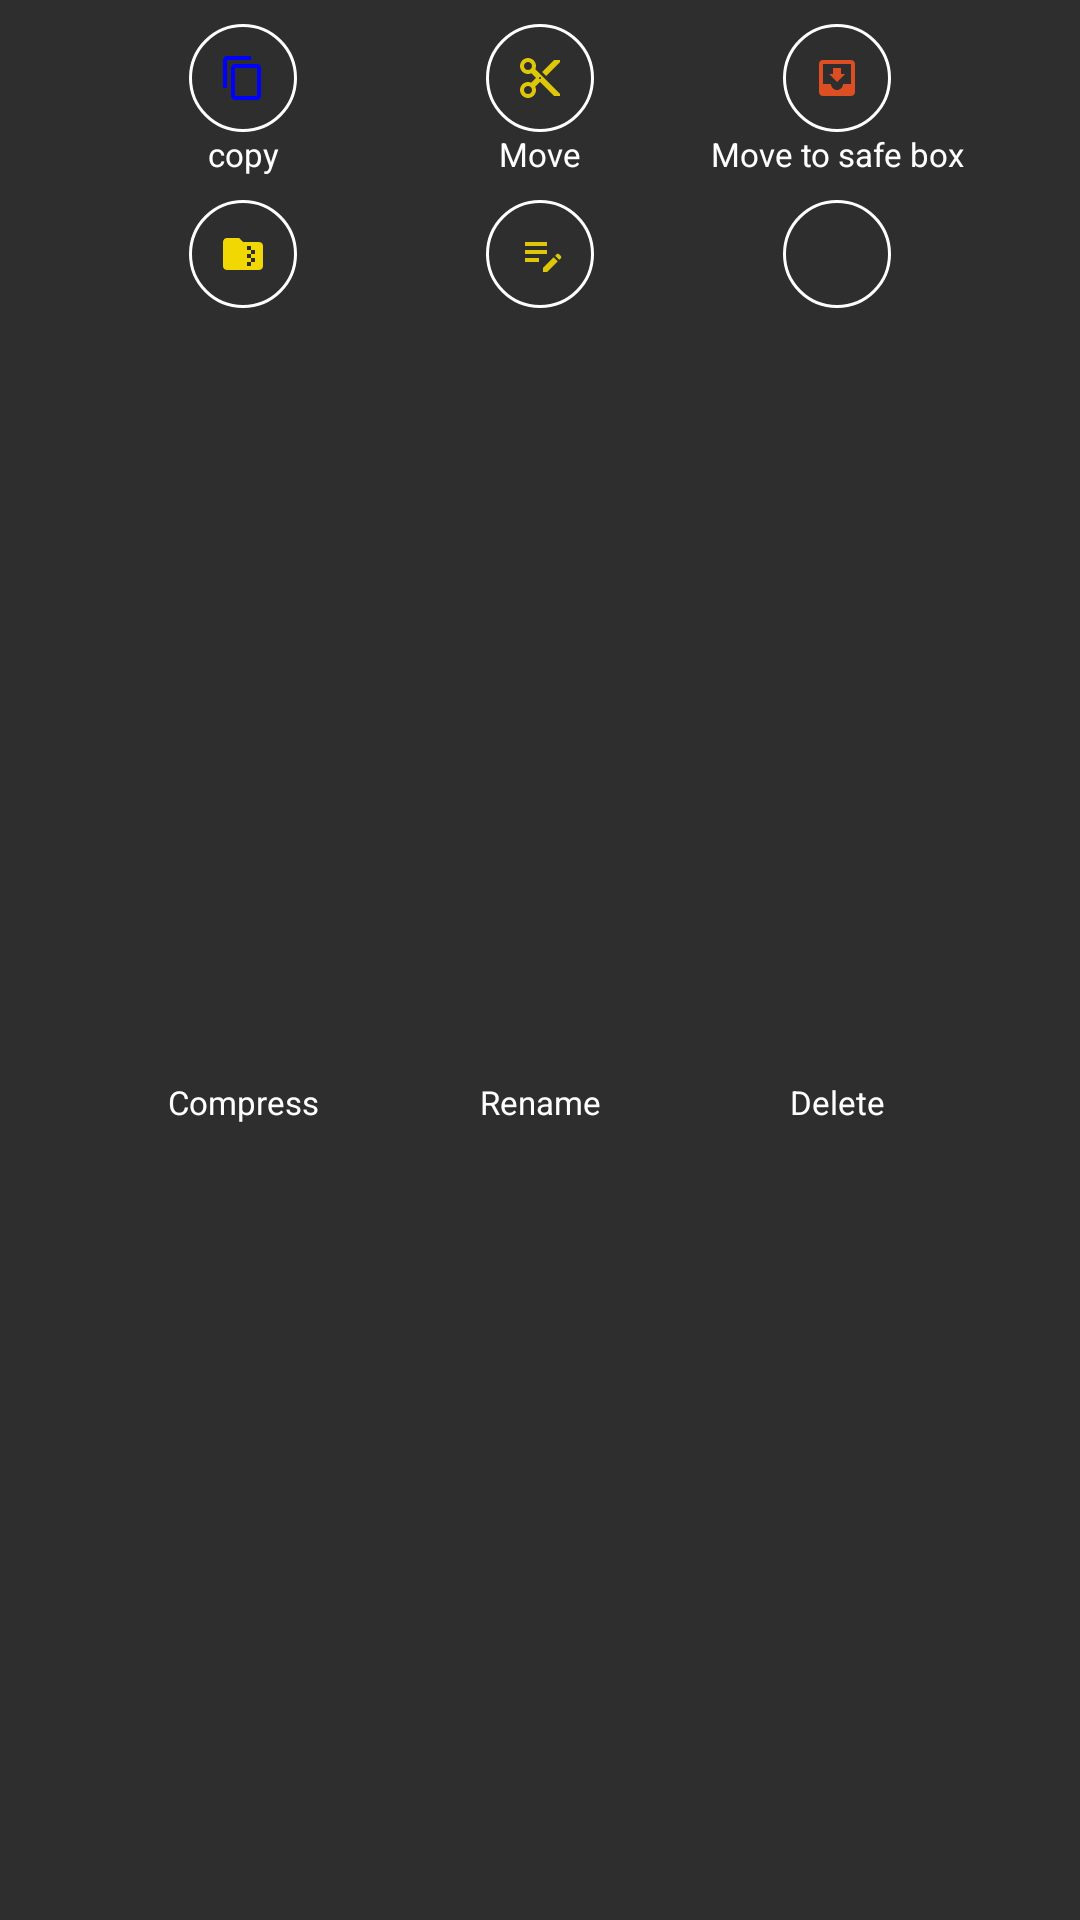

Screen size 1080×1920. Icon name, then its center in pixels as point (x, y):
cut: point (540, 78)
edit note: point (543, 257)
folder zip: point (243, 254)
